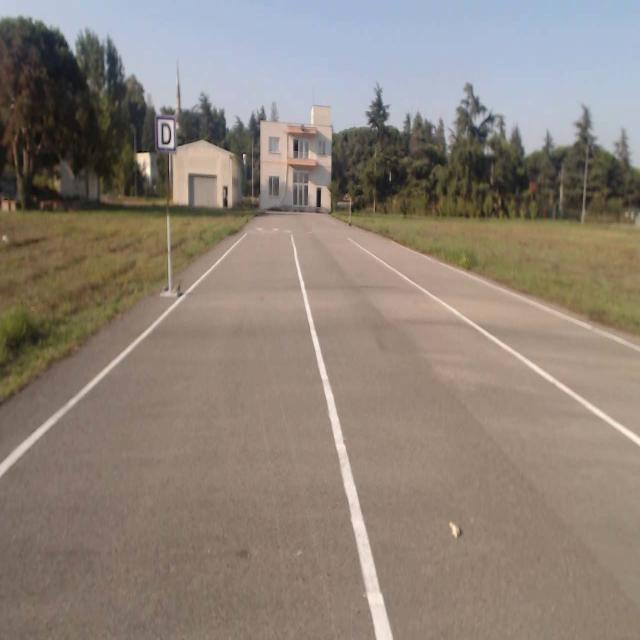durak: (156, 116, 174, 150)
